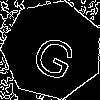G: (27, 24, 85, 84)
